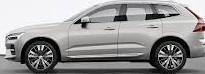SUV: (6, 2, 205, 74)
